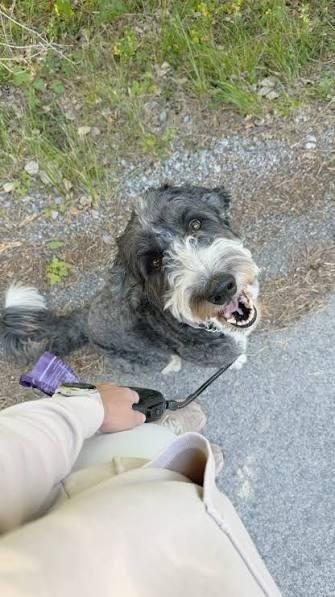adult_dog: (1, 182, 258, 382)
